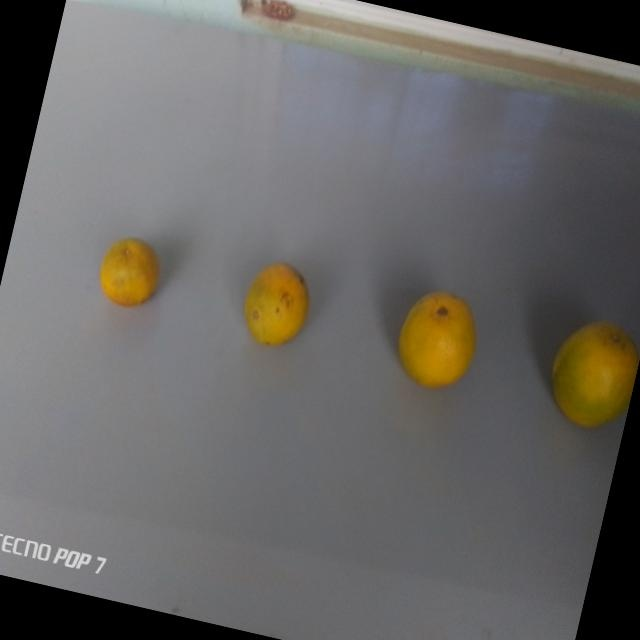agrume: (380, 268, 493, 406), (535, 305, 640, 447), (227, 249, 320, 359), (92, 221, 172, 322)
